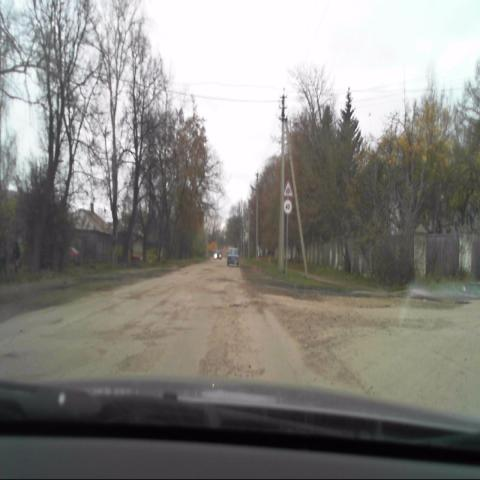1_23: (283, 178, 293, 196)
3_24: (283, 199, 292, 215)
